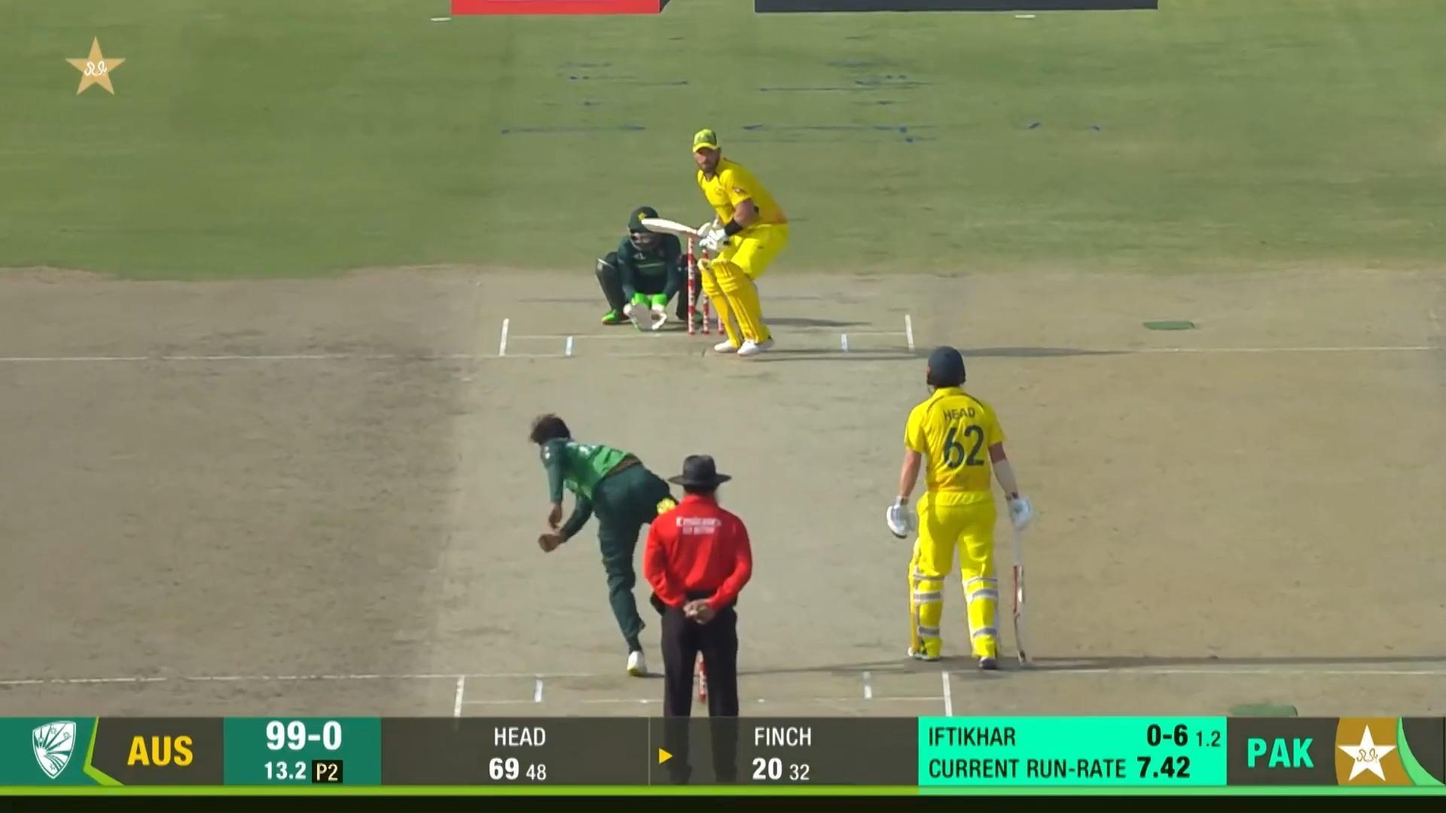BM 1: (639, 128, 792, 357)
BO: (523, 411, 705, 678)
